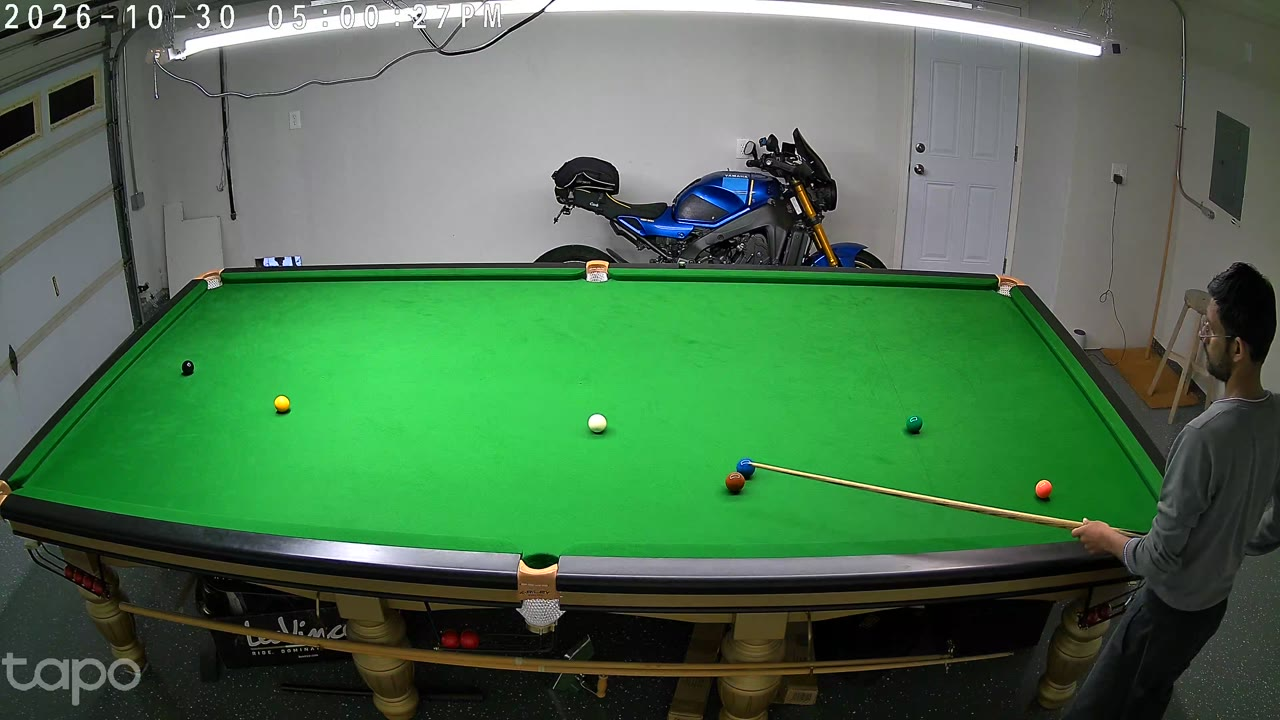black: (182, 358, 194, 378)
blue: (735, 456, 754, 484)
brown: (725, 471, 743, 496)
green: (906, 413, 922, 436)
pink: (1035, 477, 1052, 502)
white: (587, 412, 607, 436)
yellow: (275, 395, 289, 415)
